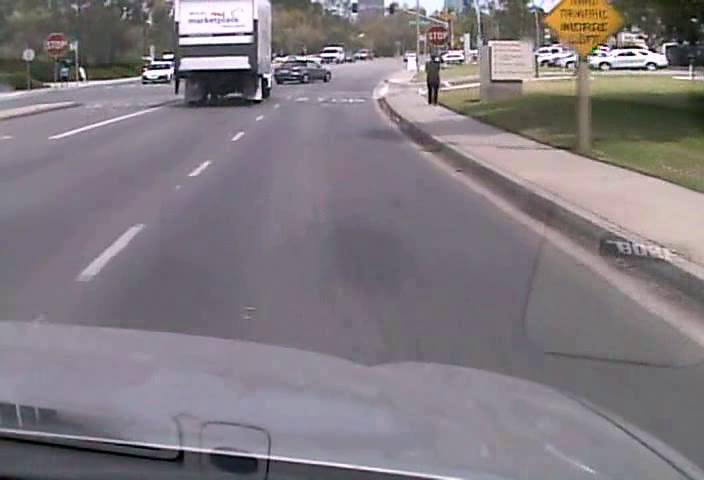stop: (427, 24, 449, 46)
